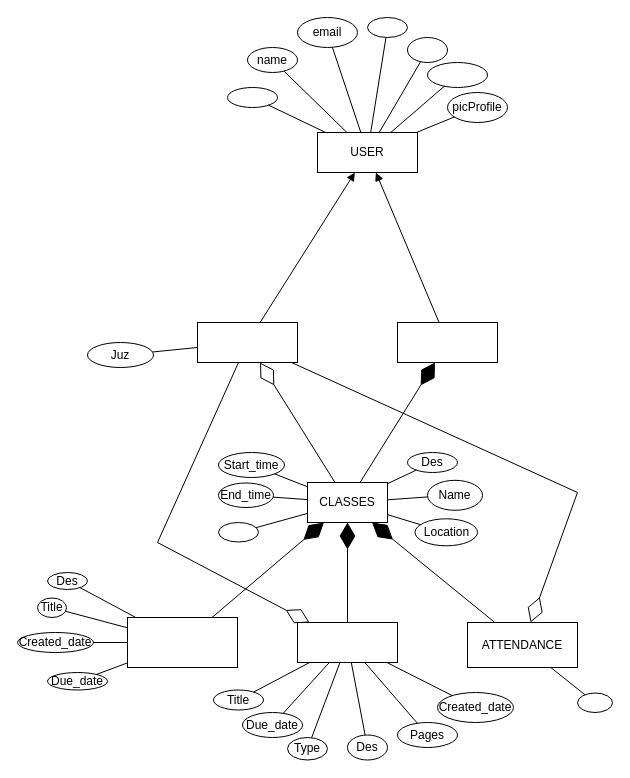
This 630x778 diagram has some shape labels left out. The shapes that lost their labels are listed below. From the top down, each one's centre as x and y in pixels, then its label:
the point at 387,27: role
the point at 427,49: dob
the point at 457,75: createdAt
the point at 252,97: id
the point at 247,342: STUDENT
the point at 447,342: TEACHER
the point at 238,532: Days
the point at 182,642: EVENTS
the point at 347,642: ASSIGNMENT
the point at 594,702: Date
